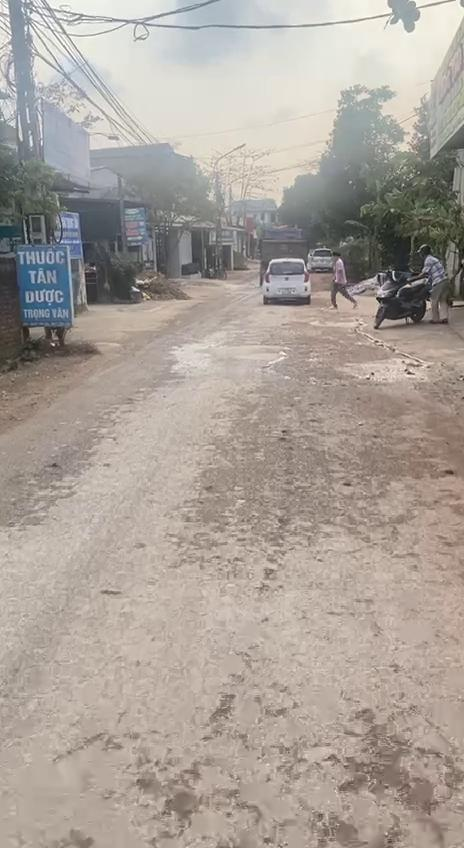pothole: (322, 732, 436, 819)
